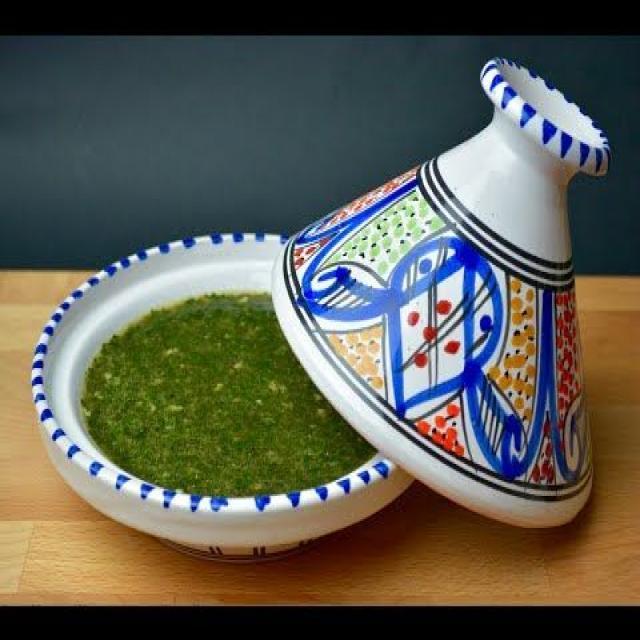Molokhya: (32, 278, 382, 522)
